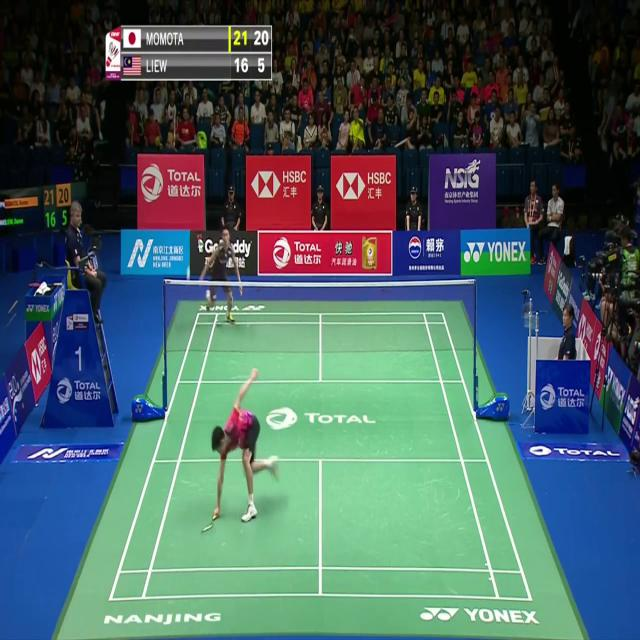Shuttlecock: (184, 268, 191, 280)
